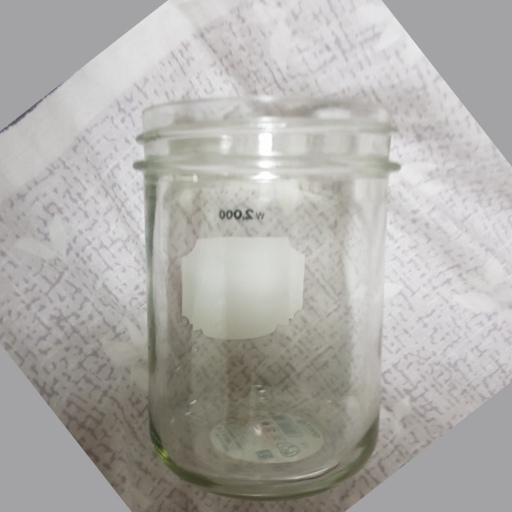Glass_5: (128, 96, 395, 499)
